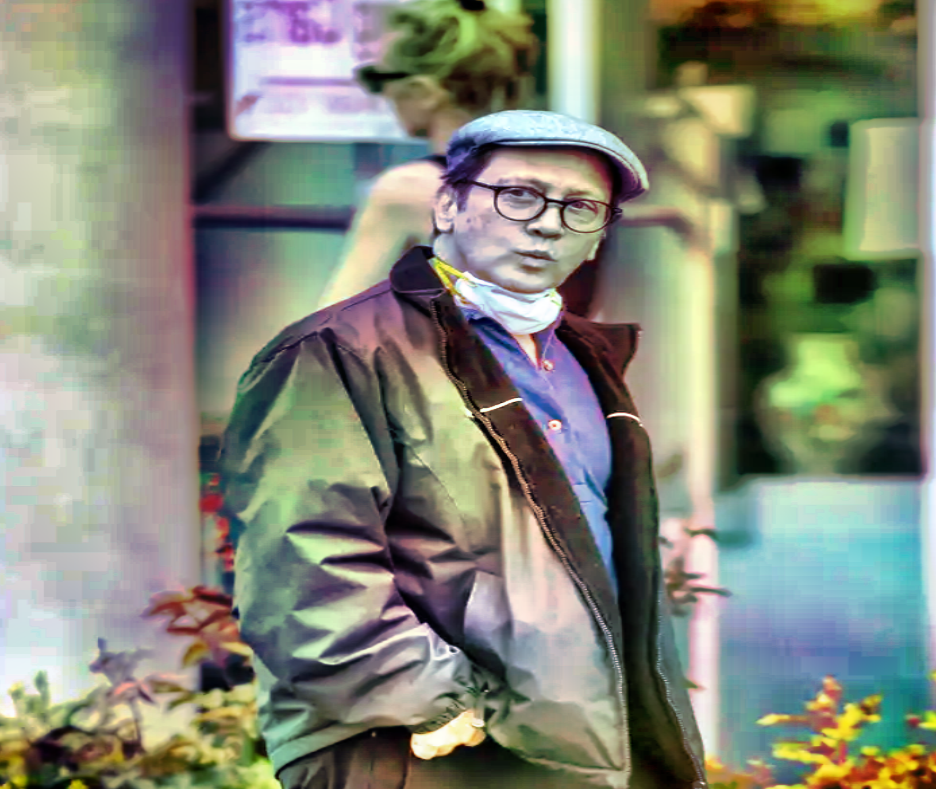mask_weared_incorrect: (408, 104, 650, 339)
